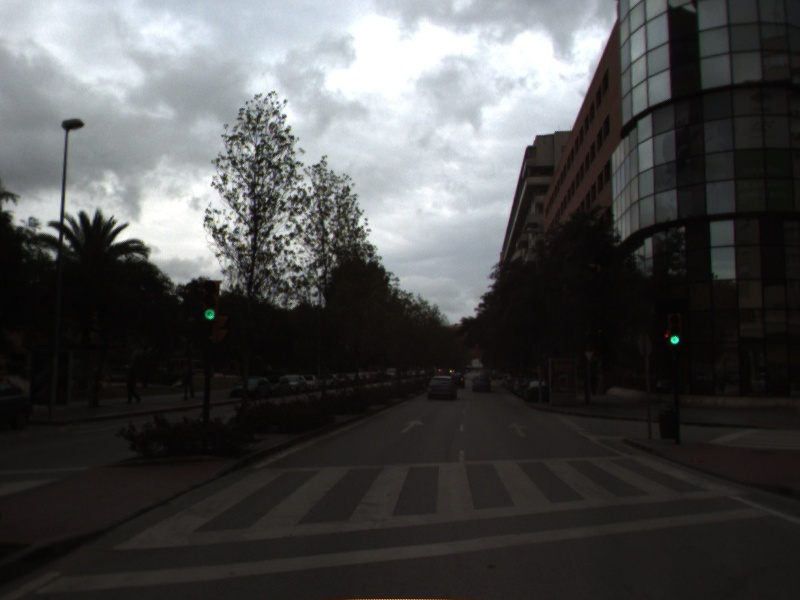STRAIGHT: (505, 420, 531, 438), (398, 417, 425, 434)
